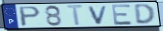8: (44, 5, 63, 27)
D: (133, 3, 157, 25)
E: (111, 3, 135, 26)
P: (18, 5, 42, 28)
T: (66, 4, 87, 27)
V: (87, 5, 109, 25)
